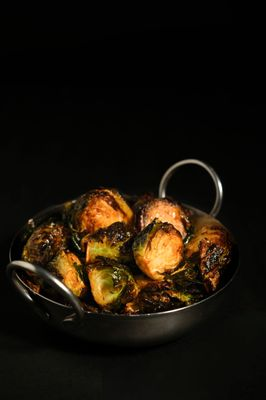sushi: (11, 161, 242, 349)
